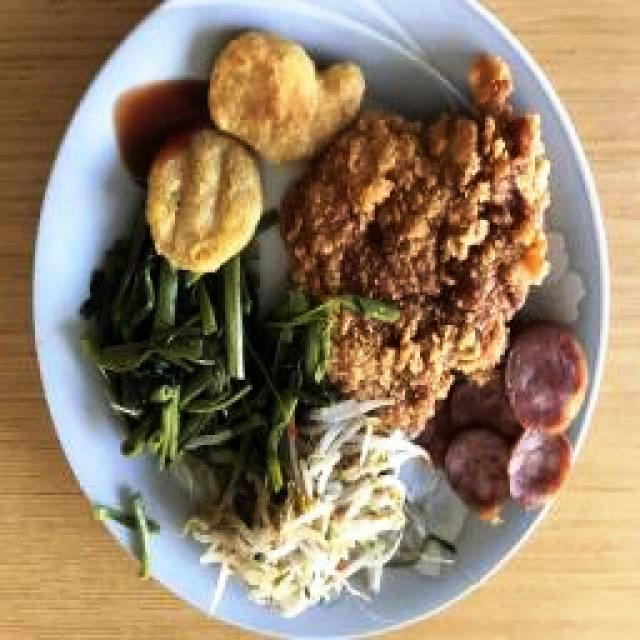chicken_nuggets: (146, 32, 363, 273)
chinese_sausage: (429, 322, 588, 510)
fried_chicken: (282, 54, 550, 439)
ketchup: (116, 78, 209, 166)
mung_bean_sprouts: (195, 401, 429, 617)
water_spinach: (85, 223, 300, 487)
